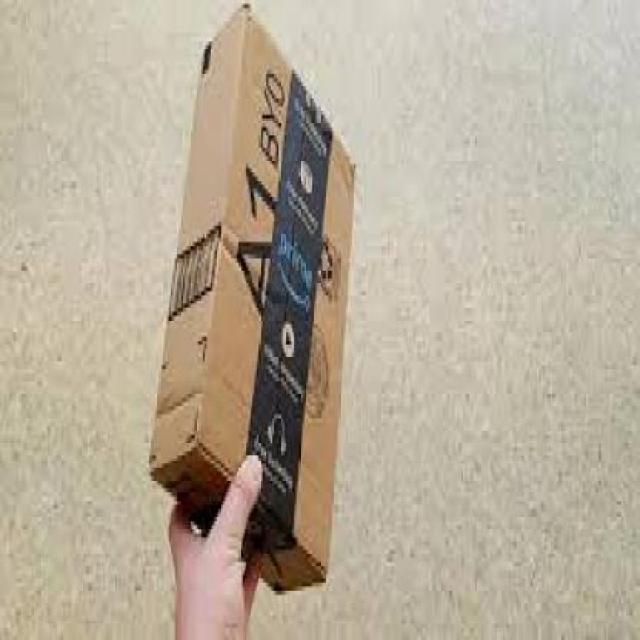cardboxes: (149, 0, 356, 606)
